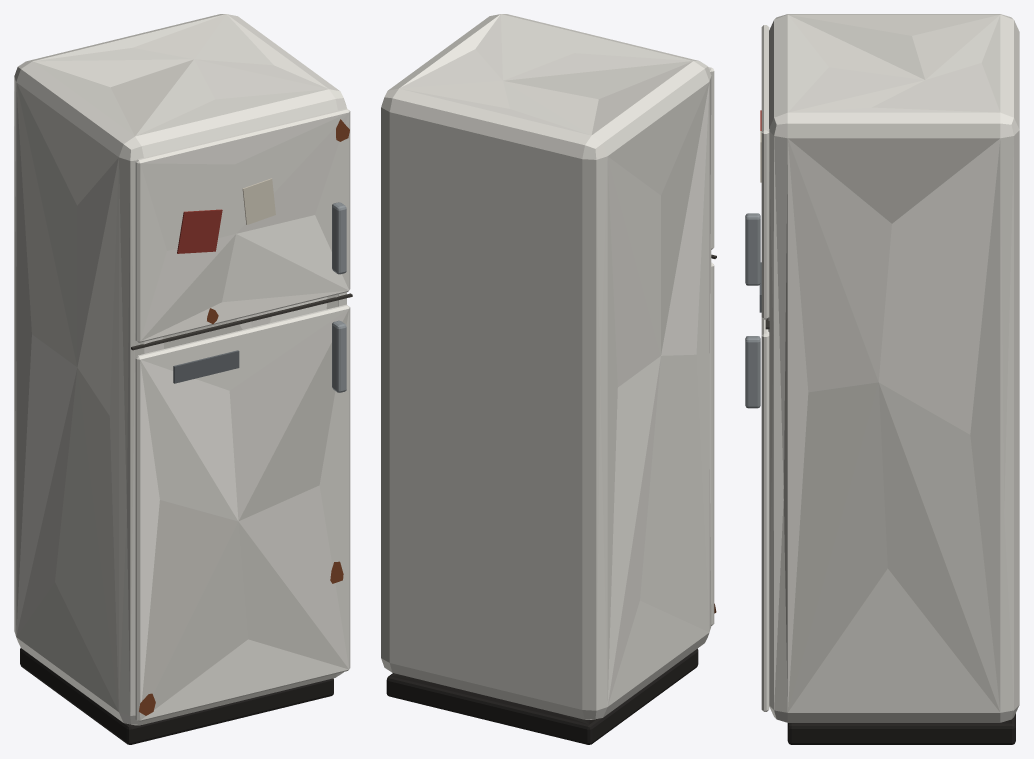
The model's file is fridge_elektricheskiy_idle.glb.
3 views of the same model, side by side, from view 1: azimuth 30°, elevation 25°; view 2: azimuth 150°, elevation 25°; view 3: azimuth 270°, elevation 25° (orthographic). The views are drawn at different scales.
Visible parts, largest first — view 1: fridge_elektricheskiy_idle; view 2: fridge_elektricheskiy_idle; view 3: fridge_elektricheskiy_idle.
Boxes of the visible parts, x1,y1,x2,y2 form: fridge_elektricheskiy_idle: (14, 14, 352, 744); fridge_elektricheskiy_idle: (381, 14, 716, 744); fridge_elektricheskiy_idle: (745, 14, 1019, 744).
Bounding box in the file's own units: 0.7 × 1.8 × 0.71.
Materials: 1 (1 with a texture image).
